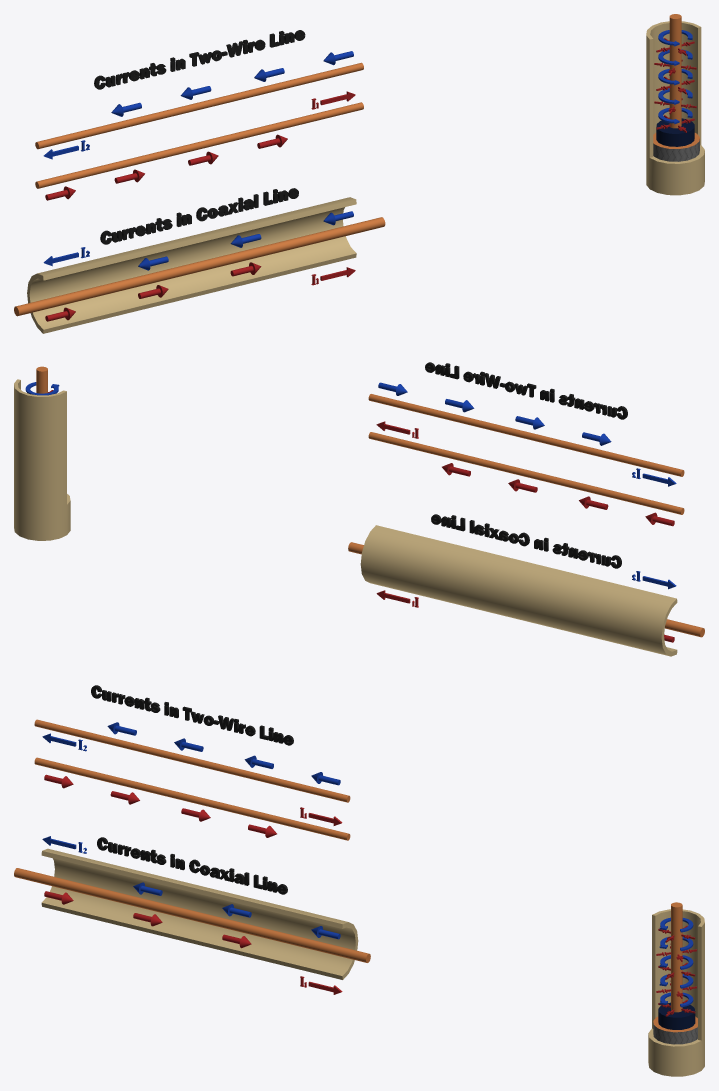
File: elektromagnetik.gltf
3 renders of one model, top to bottom at view 1: azimuth 30°, elevation 25°; view 2: azimuth 150°, elevation 25°; view 3: azimuth 330°, elevation 25°, orthographic. The views are drawn at different scales.
Parts seen in each view (by area): view 1: Cylinder.006, Cylinder.003, Cylinder.007, Cylinder.004, Cylinder.002, Text.005, Text.004, Cylinder.011, Cylinder.001, Cylinder.013, Cylinder.012, Plane.001; view 2: Cylinder.006, Cylinder.003, Cylinder.002, Cylinder.004, Text.005, Text.004, Cylinder.007; view 3: Cylinder.006, Cylinder.003, Cylinder.007, Cylinder.002, Cylinder.004, Text.005, Text.004, Cylinder.011, Cylinder.001, Cylinder.013, Cylinder.012, Plane.001.
Boxes of the visible parts, <box> form: Cylinder.006: <box>27,197,356,333</box>; Cylinder.003: <box>646,21,704,195</box>; Cylinder.007: <box>14,217,385,316</box>; Cylinder.004: <box>35,102,363,188</box>; Cylinder.002: <box>35,62,363,149</box>; Text.005: <box>94,30,305,89</box>; Text.004: <box>100,188,298,244</box>; Cylinder.011: <box>669,14,681,128</box>; Cylinder.001: <box>658,30,692,124</box>; Cylinder.013: <box>653,133,699,161</box>; Cylinder.012: <box>656,118,694,146</box>; Plane.001: <box>654,38,696,132</box>; Cylinder.006: <box>360,525,677,656</box>; Cylinder.003: <box>14,379,70,540</box>; Cylinder.002: <box>368,394,684,476</box>; Cylinder.004: <box>368,432,684,514</box>; Text.005: <box>425,362,627,419</box>; Text.004: <box>431,514,621,568</box>; Cylinder.007: <box>348,542,704,637</box>; Cylinder.006: <box>41,848,358,979</box>; Cylinder.003: <box>648,909,704,1076</box>; Cylinder.007: <box>14,868,370,962</box>; Cylinder.002: <box>34,719,350,802</box>; Cylinder.004: <box>34,757,350,840</box>; Text.005: <box>91,685,293,745</box>; Text.004: <box>97,837,287,894</box>; Cylinder.011: <box>671,902,682,1012</box>; Cylinder.001: <box>659,917,693,1007</box>; Cylinder.013: <box>653,1016,697,1044</box>; Cylinder.012: <box>658,1002,695,1029</box>; Plane.001: <box>656,925,696,1016</box>.
Size of the model in its own units: 3.38 by 1.21 by 0.2686.
7 materials, 1 textured.
